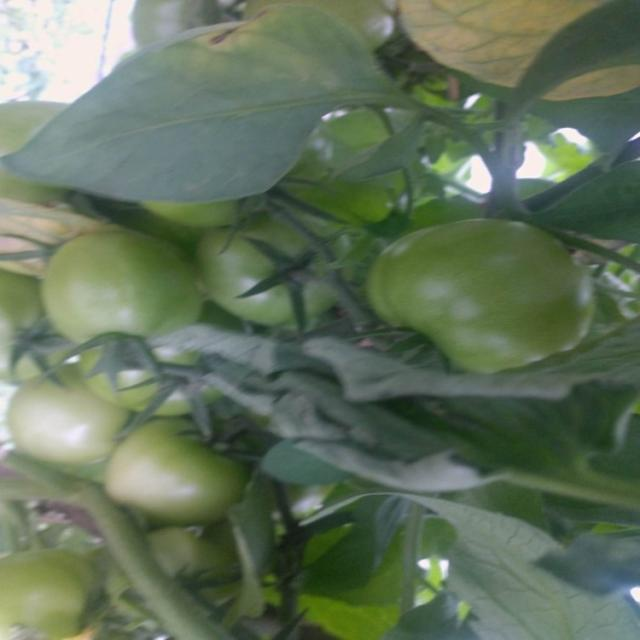tomato: (373, 206, 597, 364), (41, 225, 213, 362), (203, 213, 356, 334), (104, 413, 237, 531), (3, 362, 136, 473), (1, 533, 115, 640), (82, 348, 226, 423), (1, 259, 65, 383), (122, 1, 244, 44)
